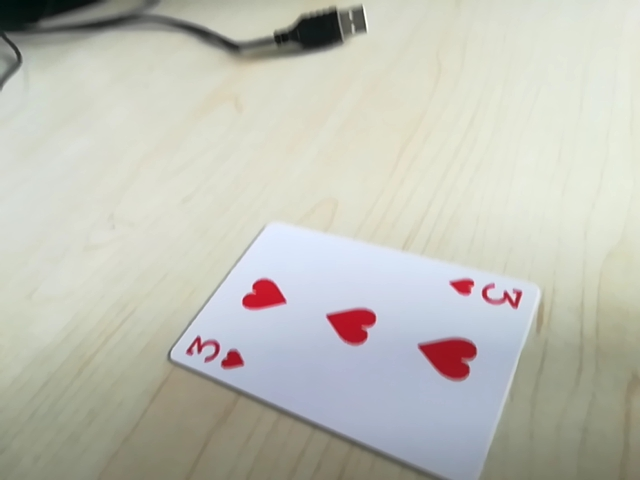hx 3: (445, 272, 532, 314), (177, 330, 248, 377)
